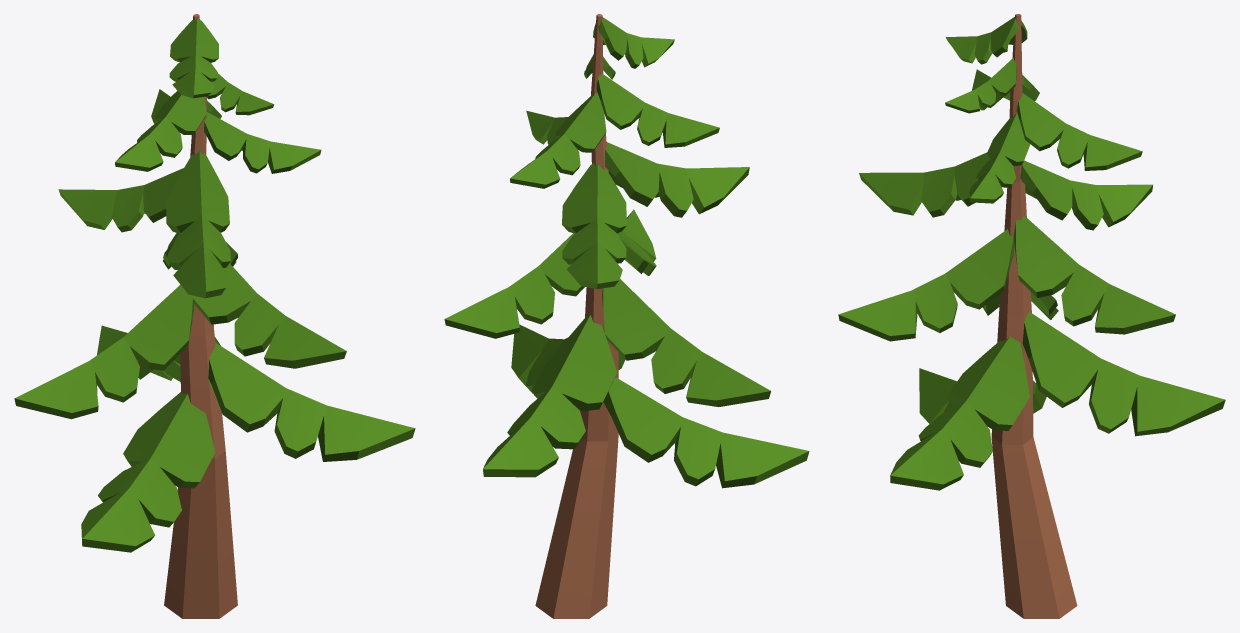
The model's file is Tree.obj.
The picture shows the model from 3 angles, left to right: view 1: azimuth 30°, elevation 25°; view 2: azimuth 150°, elevation 25°; view 3: azimuth 270°, elevation 25°; orthographic projection. The views are drawn at different scales.
Parts seen in each view (by area): view 1: PP_Tree_10; view 2: PP_Tree_10; view 3: PP_Tree_10.
Part boxes in pixels (x1,y1,x2,y2): PP_Tree_10: (14,14,415,618); PP_Tree_10: (444,14,809,618); PP_Tree_10: (838,14,1225,618).
Size of the model in its own units: 3.55 by 6.16 by 3.71.
1 material, 1 textured.
